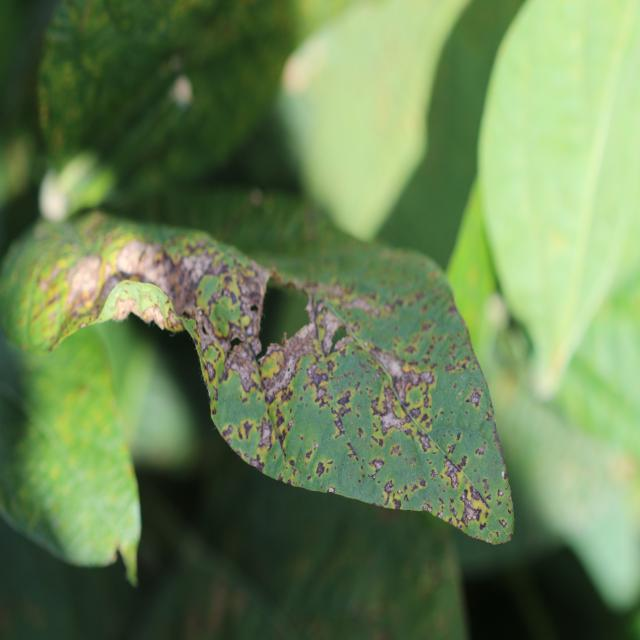Bacterial_Blight: (32, 247, 91, 334), (43, 36, 92, 124), (375, 357, 433, 419), (158, 252, 205, 319), (217, 335, 259, 390), (455, 475, 493, 528), (114, 239, 159, 280), (234, 270, 267, 322), (305, 363, 330, 392), (335, 391, 356, 425), (442, 456, 463, 484), (370, 391, 391, 418), (347, 295, 376, 314), (381, 478, 399, 508), (237, 419, 256, 442), (491, 421, 503, 449), (345, 441, 360, 462), (466, 390, 482, 408), (283, 358, 296, 380), (369, 457, 385, 474), (249, 455, 265, 471), (274, 409, 286, 430), (279, 387, 293, 404), (205, 362, 216, 382), (315, 461, 327, 478), (474, 441, 487, 456), (371, 435, 384, 448), (222, 425, 234, 439), (389, 445, 401, 456), (429, 468, 438, 481), (422, 502, 432, 513), (449, 505, 458, 517), (291, 466, 298, 478), (327, 485, 335, 494), (437, 511, 444, 520), (313, 441, 319, 451), (501, 470, 507, 479), (212, 407, 217, 416), (307, 474, 312, 481), (273, 452, 277, 460), (386, 318, 390, 324)
Soybean: (0, 197, 514, 543)
